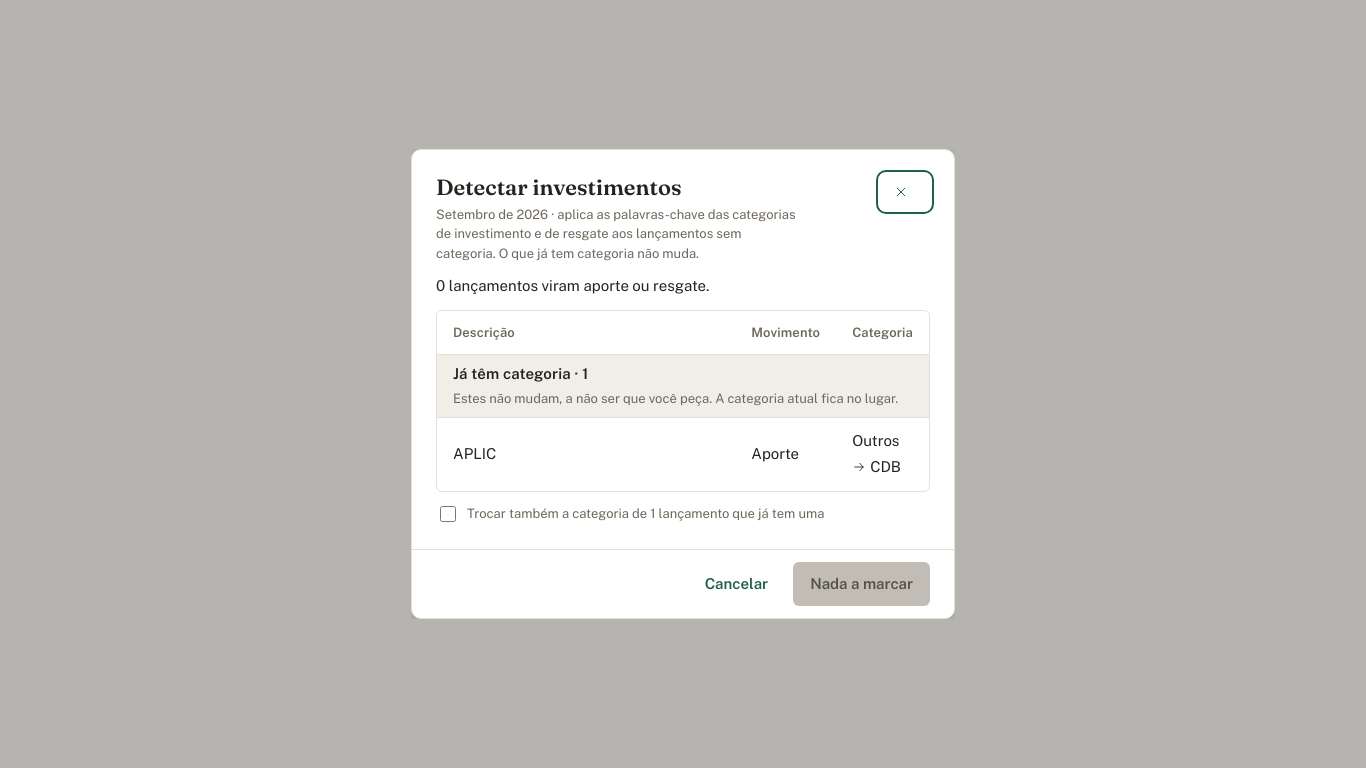
DetectInvestmentsDialog › com só o que trocar, o vazio NÃO aparece e o rótulo vira Trocar
The width and height of the screenshot is (1366, 768).
Expected: the text "Já têm categoria · 1" is shown, top-left (453, 365), bottom-right (588, 382)
Click the checkbox labelled "Trocar também a categoria de 1 lançamento que já tem uma". click: (448, 514)
box: top-left (440, 506), bottom-right (456, 522)
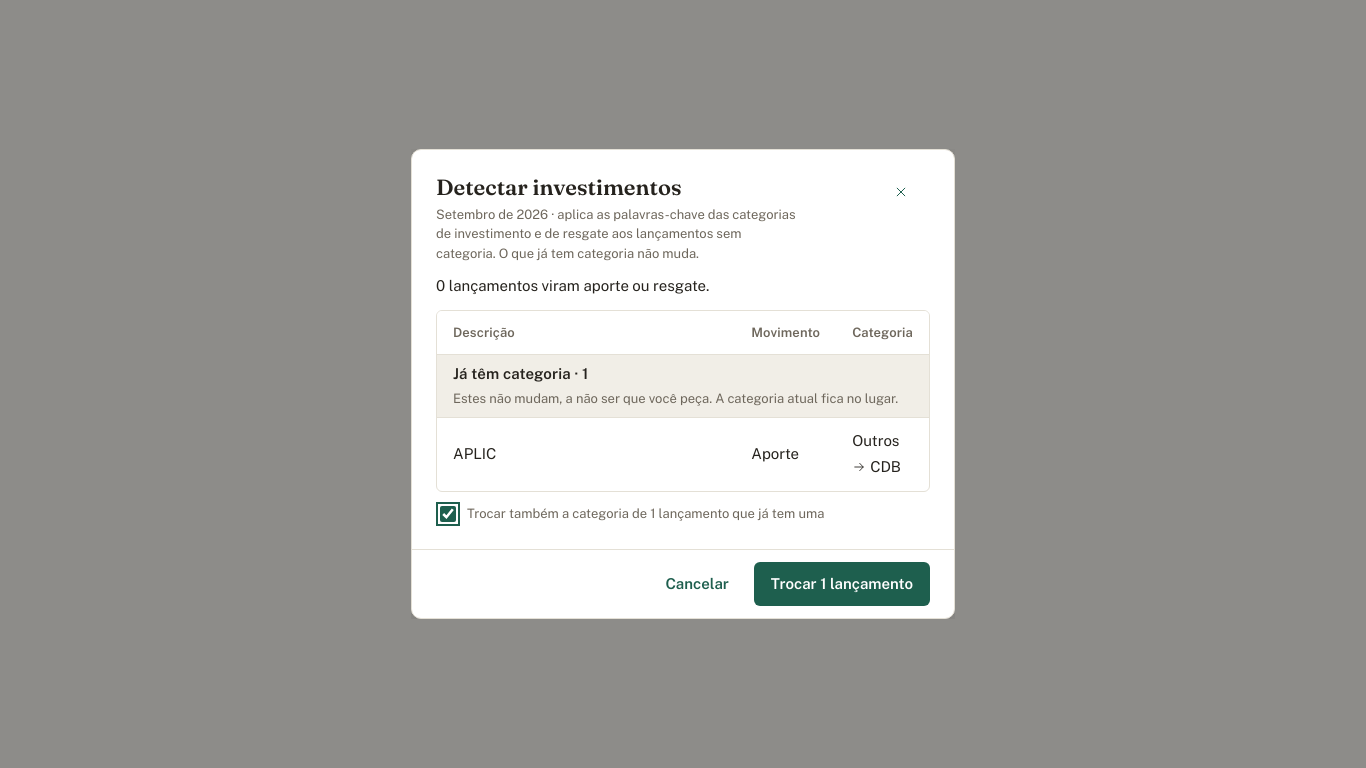
Expected: the button "Trocar 1 lançamento" is shown, top-left (754, 562), bottom-right (930, 606)
